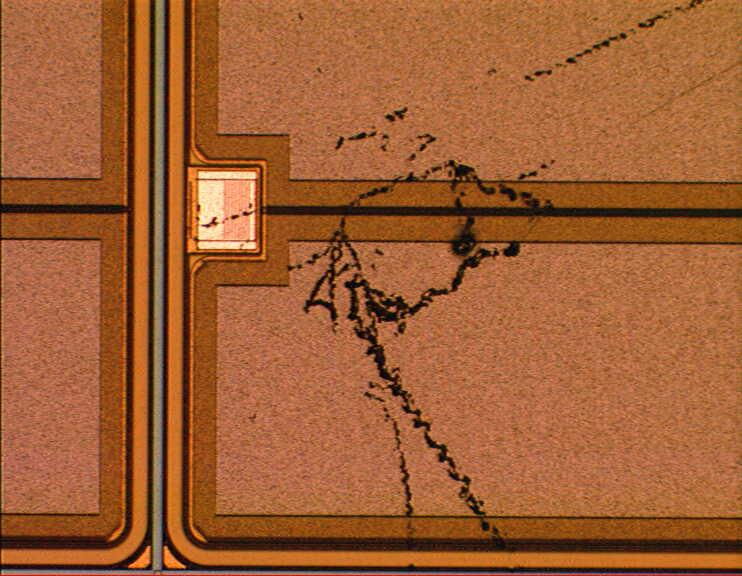SCRATCH: (189, 1, 742, 576)
